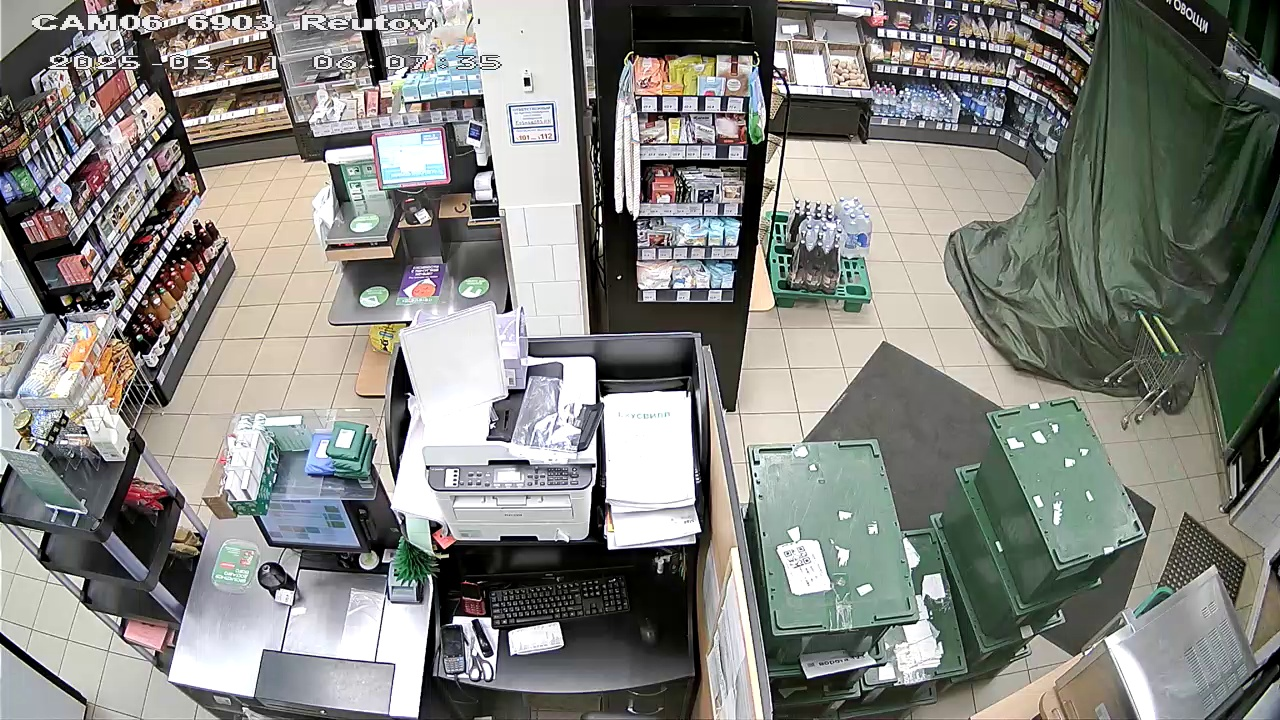dome: (953, 11, 1274, 385)
